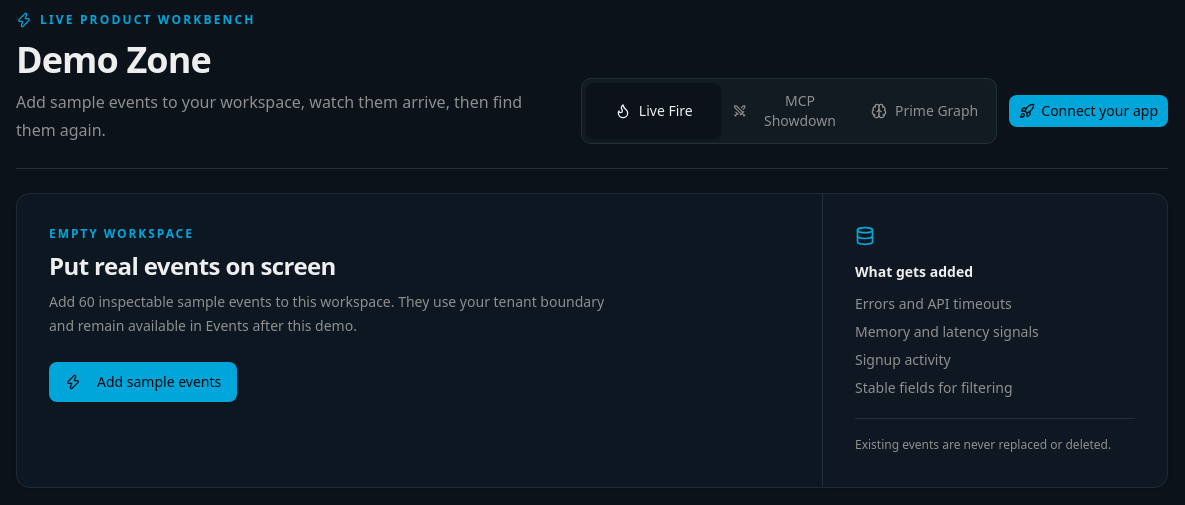
Test: Demo Zone › seeds the current workspace then hydrates stored events
The width and height of the screenshot is (1185, 505).
Check: the heading "Put real events on screen" is shown, box [49,249,336,282]
Click the button "Add sample events" at (143, 382), box [49,362,237,402]
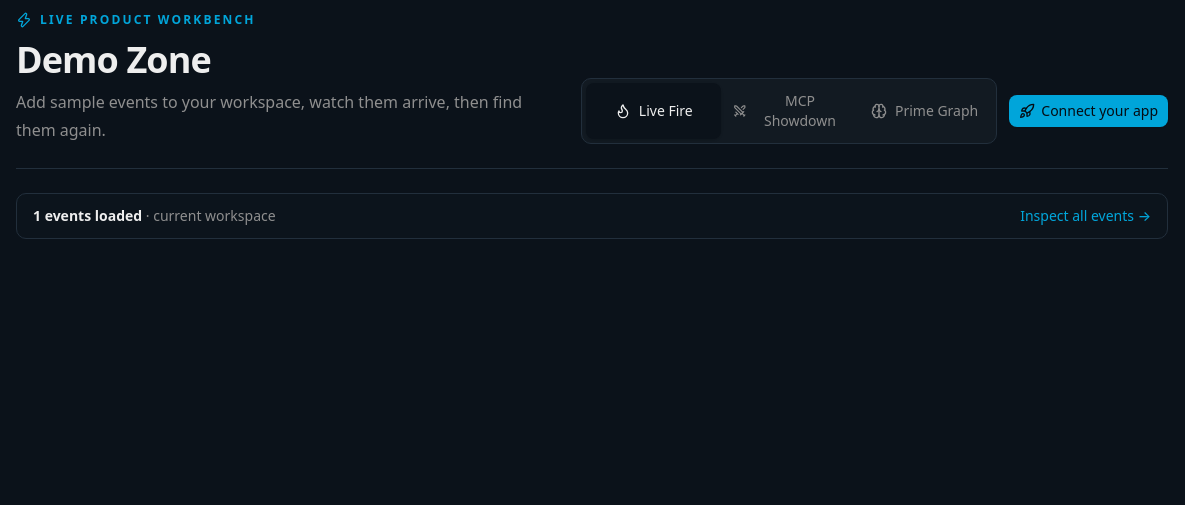
Check: the text "1 events loaded" is shown, box [33,206,142,225]
